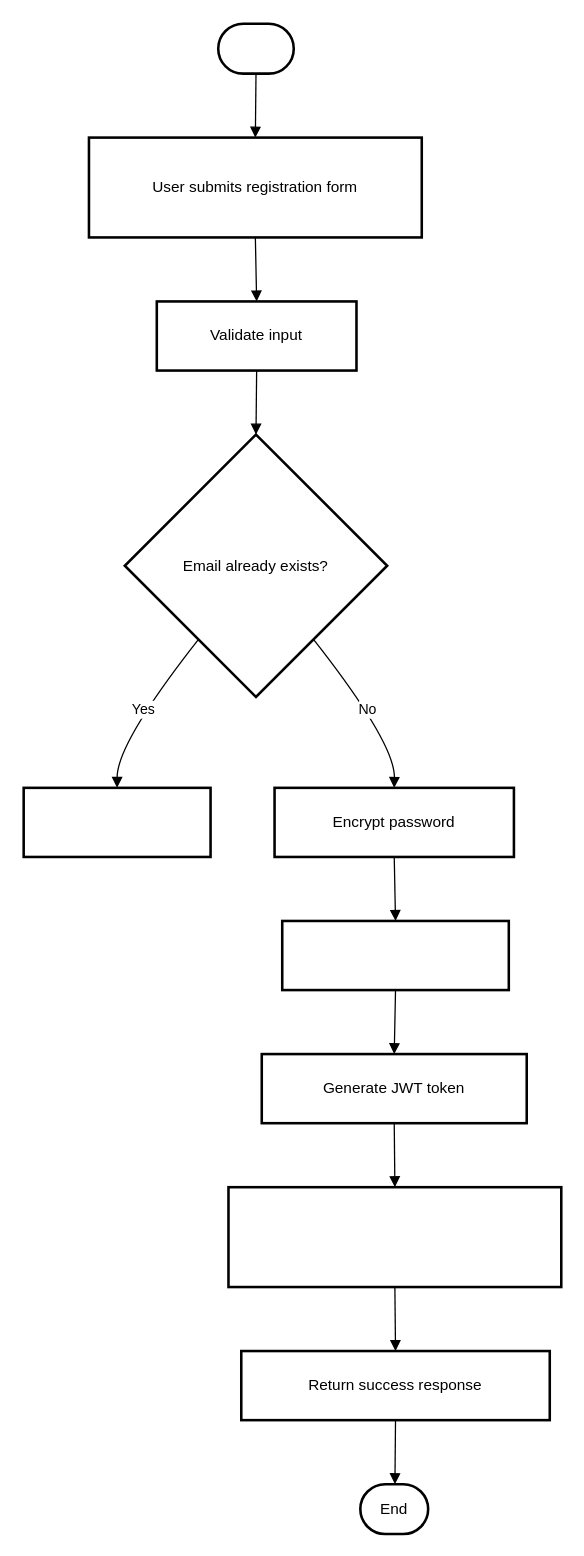
Image size: 584x1556. Some labels were removed from this diagram. The box of each missing label's shape, as (x1, y1, x2, y2) in pixels:
Return error: (22, 786, 211, 858)
Save user to DB: (280, 919, 509, 991)
Send confirmation email (optional): (227, 1185, 562, 1288)
Start: (216, 22, 294, 74)
